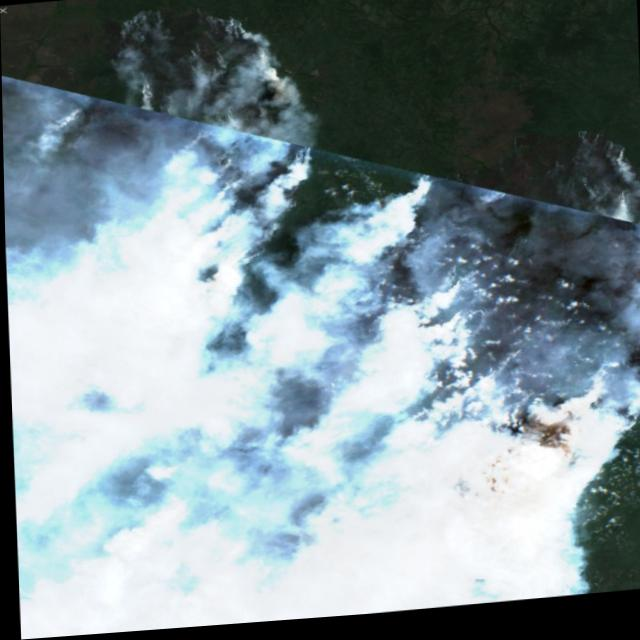fire: (32, 0, 640, 638)
